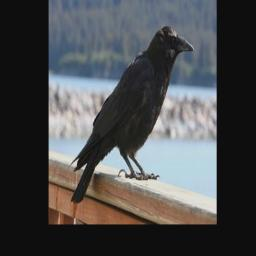Crow: (70, 24, 195, 204)
